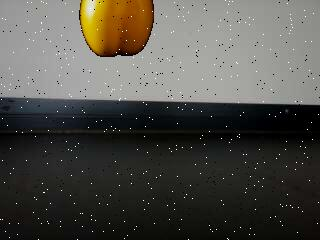Capsicum: (80, 1, 156, 59)
